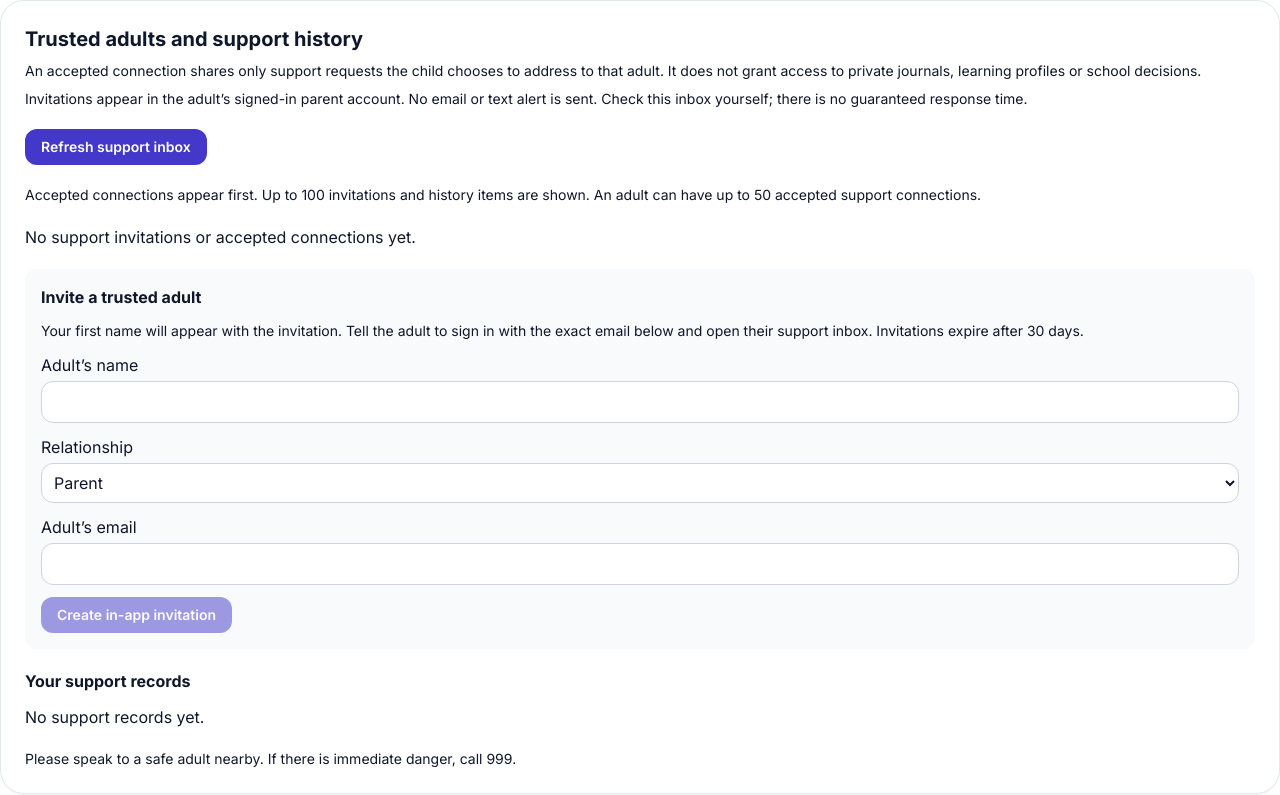
child can create an in-app invitation with an explicit no-email result
Expected: the text "No support invitations or accepted connections yet." is shown, [25,227,416,247]
Type "Alex" into the field labelled "Adult’s name" at (640, 402), box [41,381,1239,423]
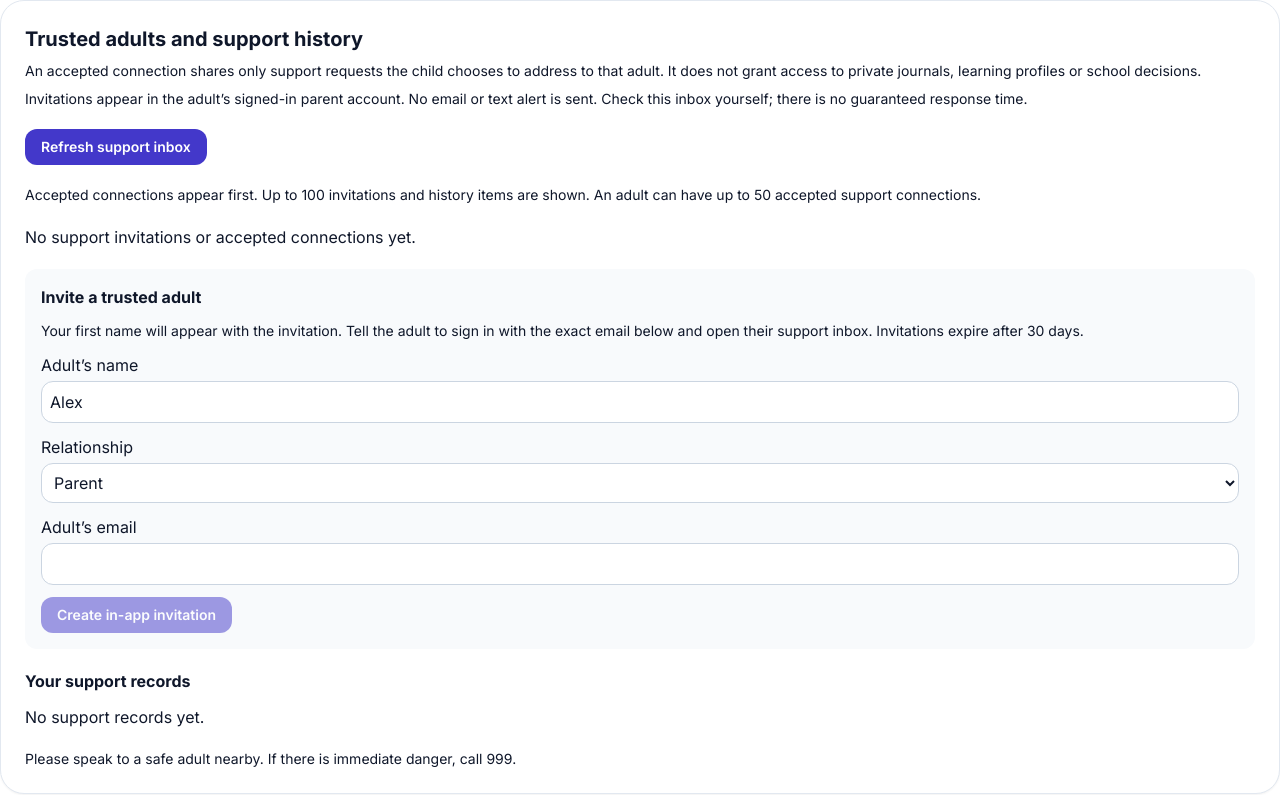
Type "alex@example.invalid" into the field labelled "Adult’s email" at (640, 564), box [41,543,1239,585]
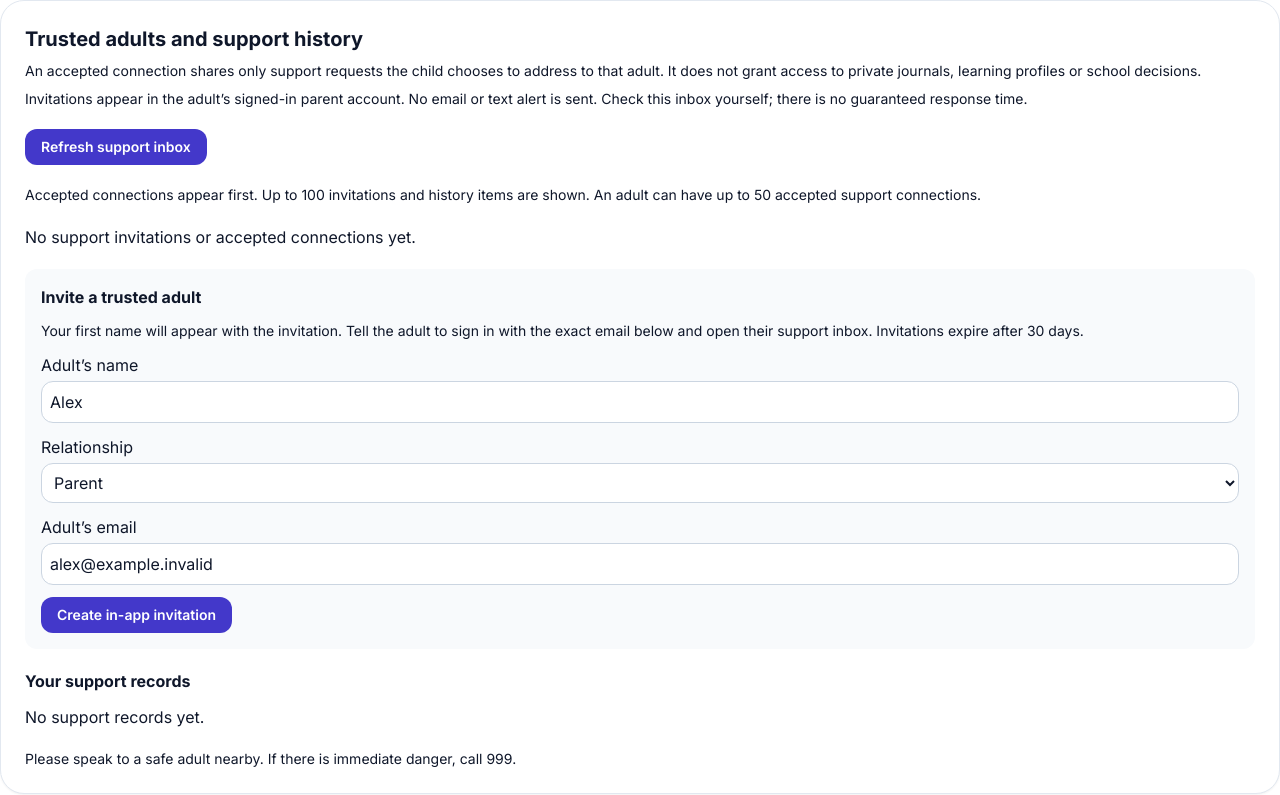
Click the button "Create in-app invitation" at (136, 615), box [41,597,232,633]
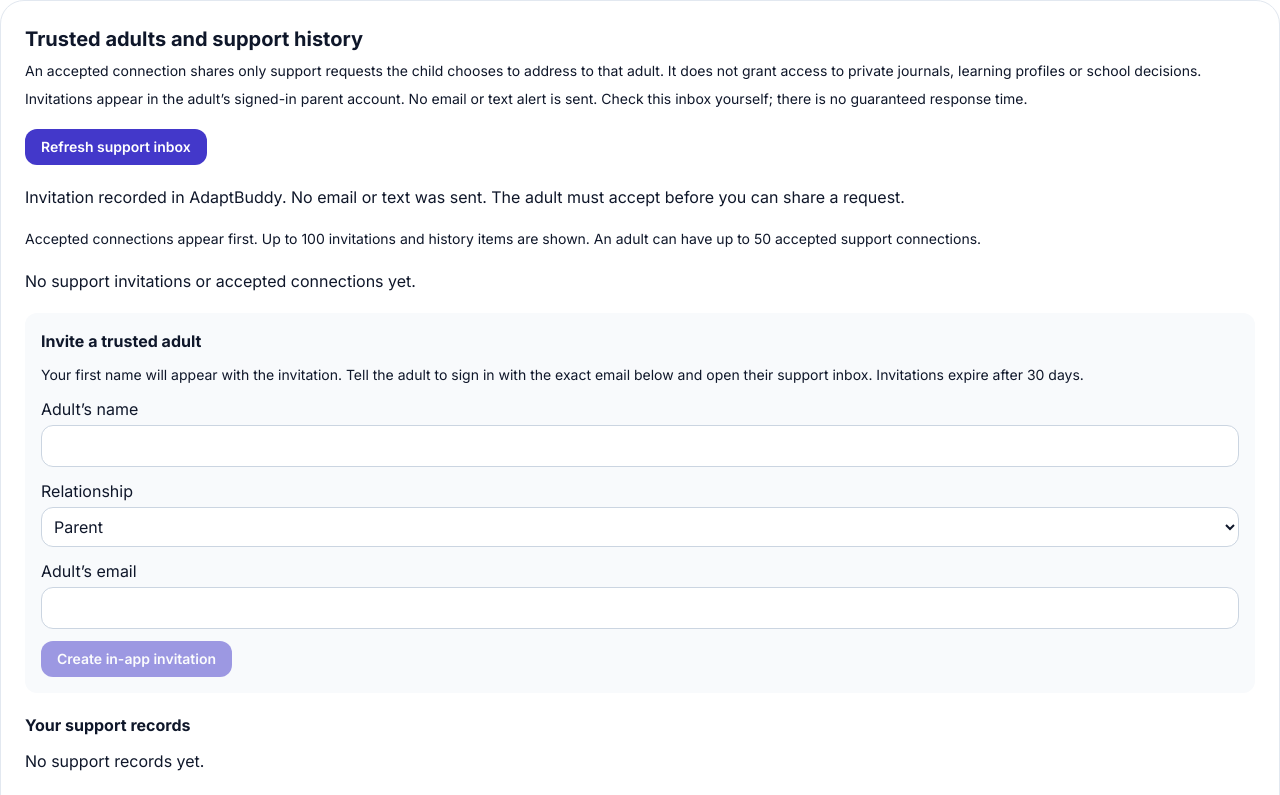
Expected: the text "Invitation recorded in AdaptBuddy. No email or text was sent" is shown, [25,187,905,207]
